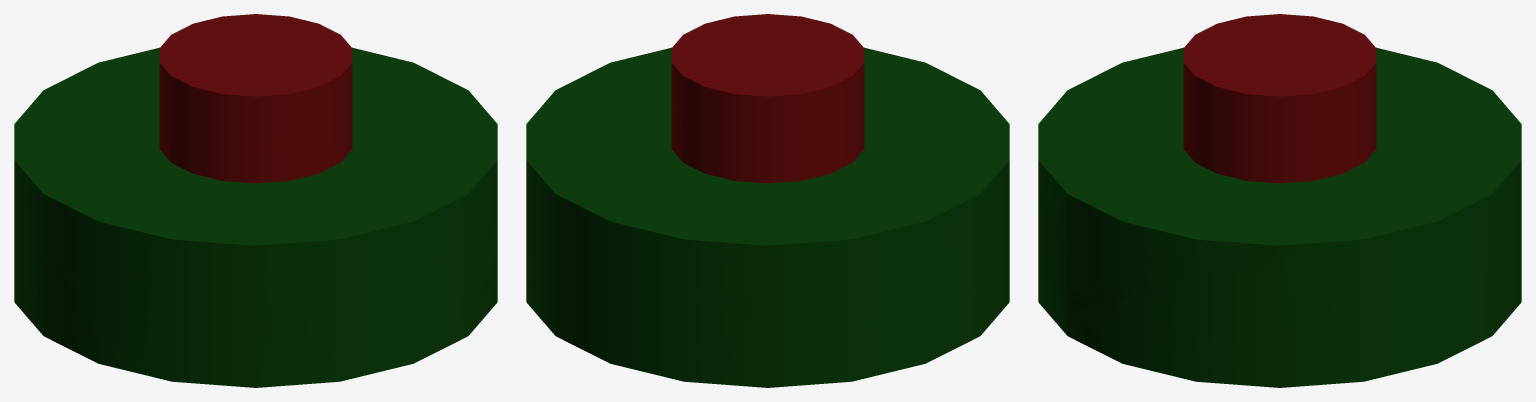
Rendered from mina.FBX.
3 renders of one model, left to right at view 1: azimuth 30°, elevation 25°; view 2: azimuth 150°, elevation 25°; view 3: azimuth 270°, elevation 25°, orthographic.
Visible parts, largest first — view 1: Cylinder001, Cylinder001_Part_6, Cylinder001_Part_15, Cylinder001_Part_12, Cylinder001_Part_4, Cylinder001_Part_19, Cylinder001_Part_7, Cylinder001_Part_9, Cylinder001_Part_10, Cylinder001_Part_5, Cylinder001_Part_16, Cylinder001_Part_8 (+3 smaller); view 2: Cylinder001, Cylinder001_Part_7, Cylinder001_Part_9, Cylinder001_Part_16, Cylinder001_Part_5, Cylinder001_Part_4, Cylinder001_Part_1, Cylinder001_Part_3, Cylinder001_Part_12, Cylinder001_Part_19, Cylinder001_Part_2, Cylinder001_Part_10 (+1 smaller); view 3: Cylinder001, Cylinder001_Part_1, Cylinder001_Part_15, Cylinder001_Part_17, Cylinder001_Part_19, Cylinder001_Part_9, Cylinder001_Part_10, Cylinder001_Part_8, Cylinder001_Part_7, Cylinder001_Part_16, Cylinder001_Part_6, Cylinder001_Part_4 (+2 smaller).
Boxes of the visible parts, bbox=[...] form: Cylinder001: bbox=[14, 14, 497, 387]; Cylinder001_Part_6: bbox=[265, 248, 453, 386]; Cylinder001_Part_15: bbox=[225, 124, 459, 266]; Cylinder001_Part_12: bbox=[113, 228, 285, 387]; Cylinder001_Part_4: bbox=[23, 158, 225, 338]; Cylinder001_Part_19: bbox=[398, 108, 497, 326]; Cylinder001_Part_7: bbox=[40, 85, 170, 161]; Cylinder001_Part_9: bbox=[159, 14, 335, 177]; Cylinder001_Part_10: bbox=[313, 28, 406, 178]; Cylinder001_Part_5: bbox=[14, 94, 80, 169]; Cylinder001_Part_16: bbox=[47, 48, 159, 88]; Cylinder001_Part_8: bbox=[456, 239, 497, 341]; Cylinder001: bbox=[526, 14, 1009, 387]; Cylinder001_Part_7: bbox=[649, 109, 887, 252]; Cylinder001_Part_9: bbox=[671, 14, 864, 148]; Cylinder001_Part_16: bbox=[550, 174, 762, 384]; Cylinder001_Part_5: bbox=[742, 198, 939, 385]; Cylinder001_Part_4: bbox=[852, 124, 1009, 263]; Cylinder001_Part_1: bbox=[526, 89, 666, 328]; Cylinder001_Part_3: bbox=[807, 236, 954, 384]; Cylinder001_Part_12: bbox=[945, 82, 1009, 127]; Cylinder001_Part_19: bbox=[608, 47, 671, 98]; Cylinder001_Part_2: bbox=[909, 97, 979, 124]; Cylinder001_Part_10: bbox=[670, 14, 768, 147]; Cylinder001: bbox=[1038, 14, 1521, 387]; Cylinder001_Part_1: bbox=[1263, 170, 1482, 381]; Cylinder001_Part_15: bbox=[1038, 99, 1184, 238]; Cylinder001_Part_17: bbox=[1170, 230, 1353, 387]; Cylinder001_Part_19: bbox=[1056, 179, 1269, 316]; Cylinder001_Part_9: bbox=[1183, 14, 1376, 123]; Cylinder001_Part_10: bbox=[1130, 76, 1353, 208]; Cylinder001_Part_8: bbox=[1061, 297, 1217, 382]; Cylinder001_Part_7: bbox=[1353, 76, 1484, 170]; Cylinder001_Part_16: bbox=[1402, 102, 1521, 338]; Cylinder001_Part_6: bbox=[1038, 198, 1061, 327]; Cylinder001_Part_4: bbox=[1130, 48, 1183, 82].
Bounding box in the file's own units: 25.01 × 12.88 × 24.63.
